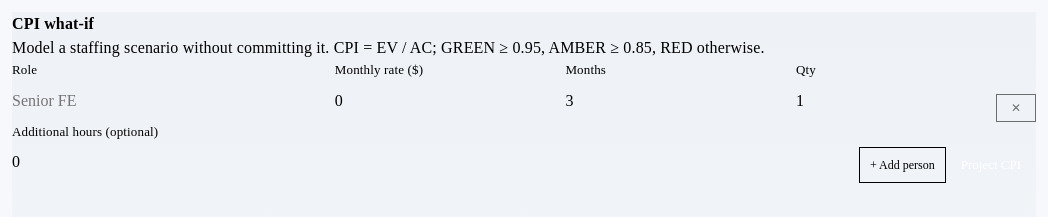
Test case: CpiWhatIfCard (LEAN-P4-missing-7) › renders an error when the API rejects
Step 1. Click the button with test id "cpi-project-button" → point(991, 165), box [946,147,1036,183]
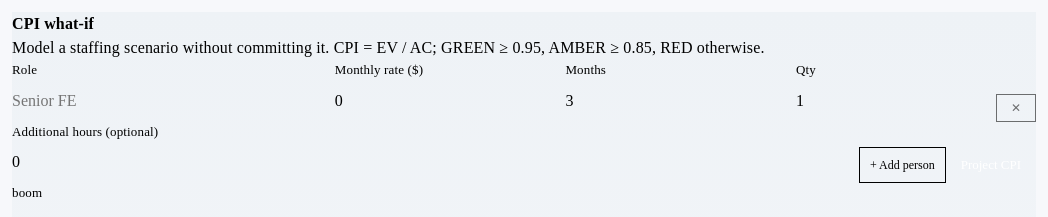
Check: the message with test id "cpi-what-if-error" reads "boom", box [12,185,42,200]
